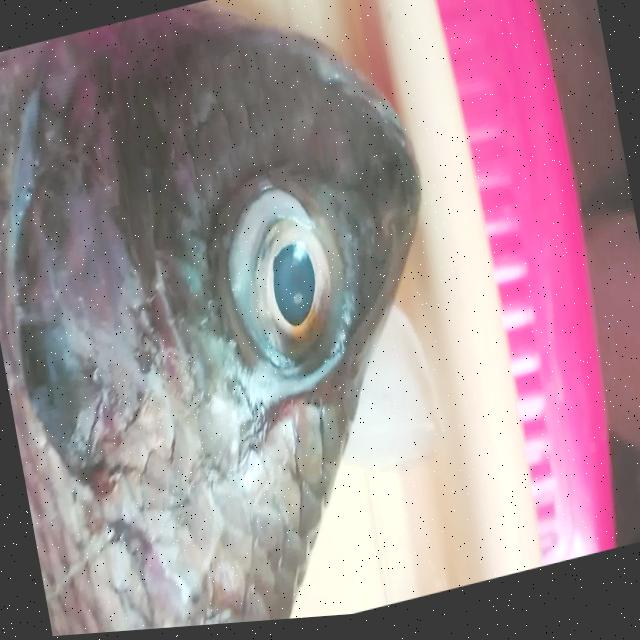Fresh: (187, 115, 387, 454)
